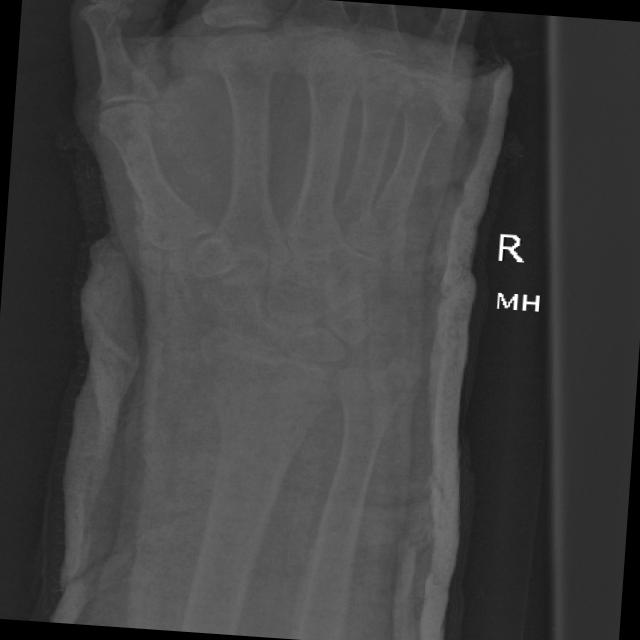wrist positive: (341, 339, 446, 420), (199, 356, 338, 404)
